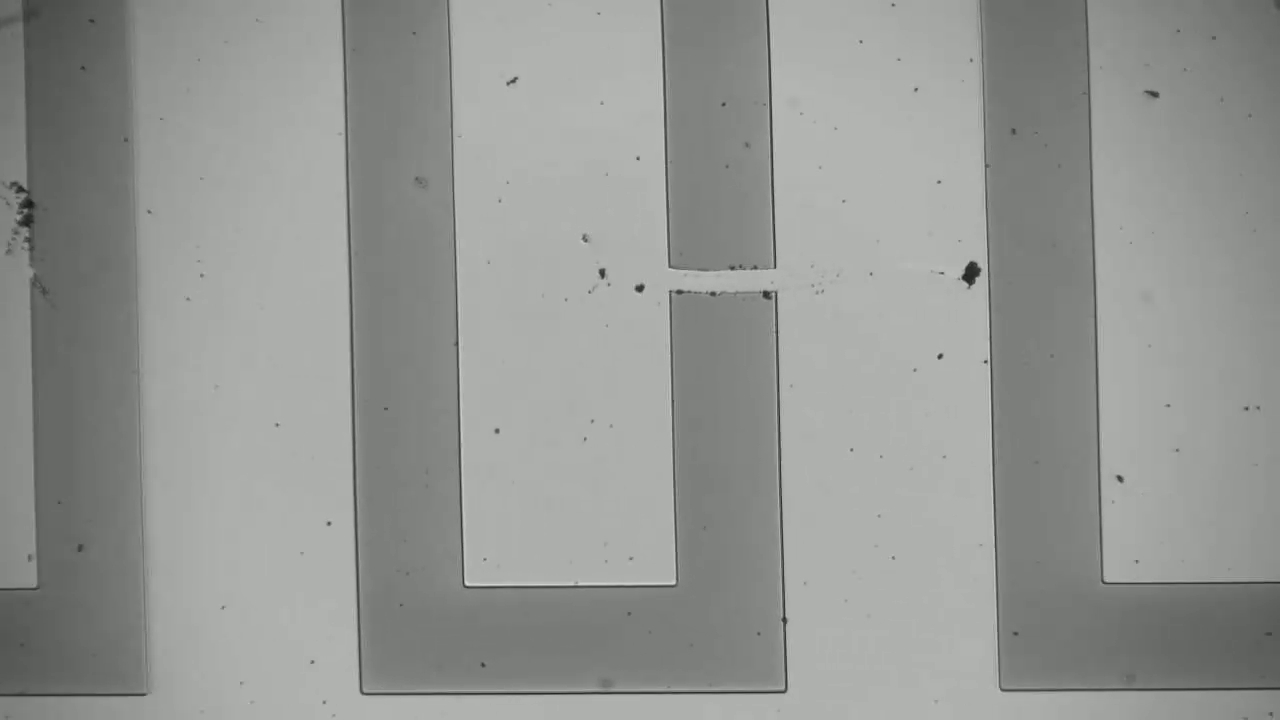Short_circuit: (651, 243, 814, 319)
